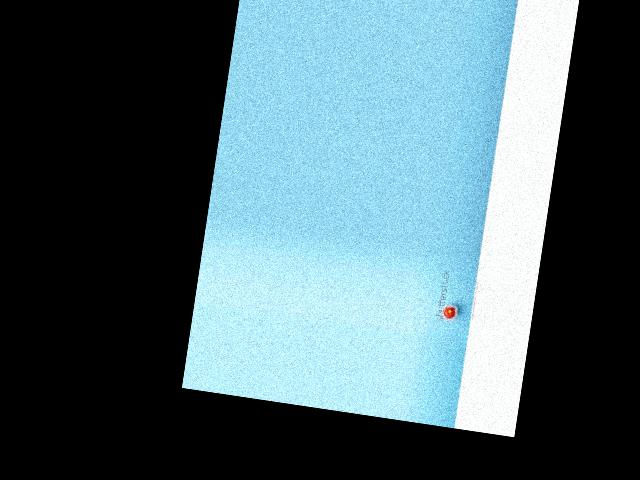tomato: (443, 305, 456, 318)
